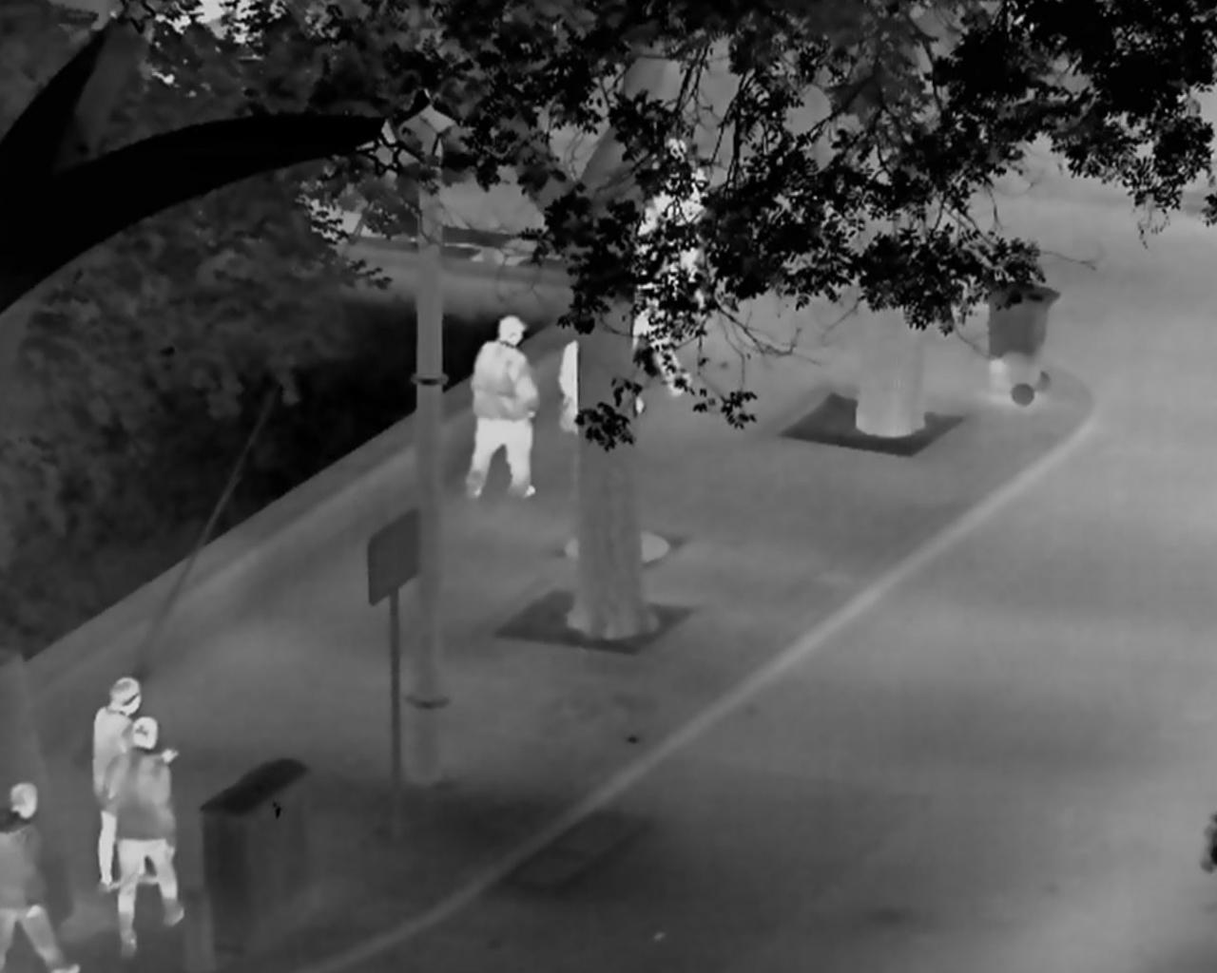person: (103, 716, 186, 958), (90, 675, 161, 891), (464, 314, 539, 501), (628, 204, 693, 395), (648, 139, 713, 316), (558, 338, 647, 435)
